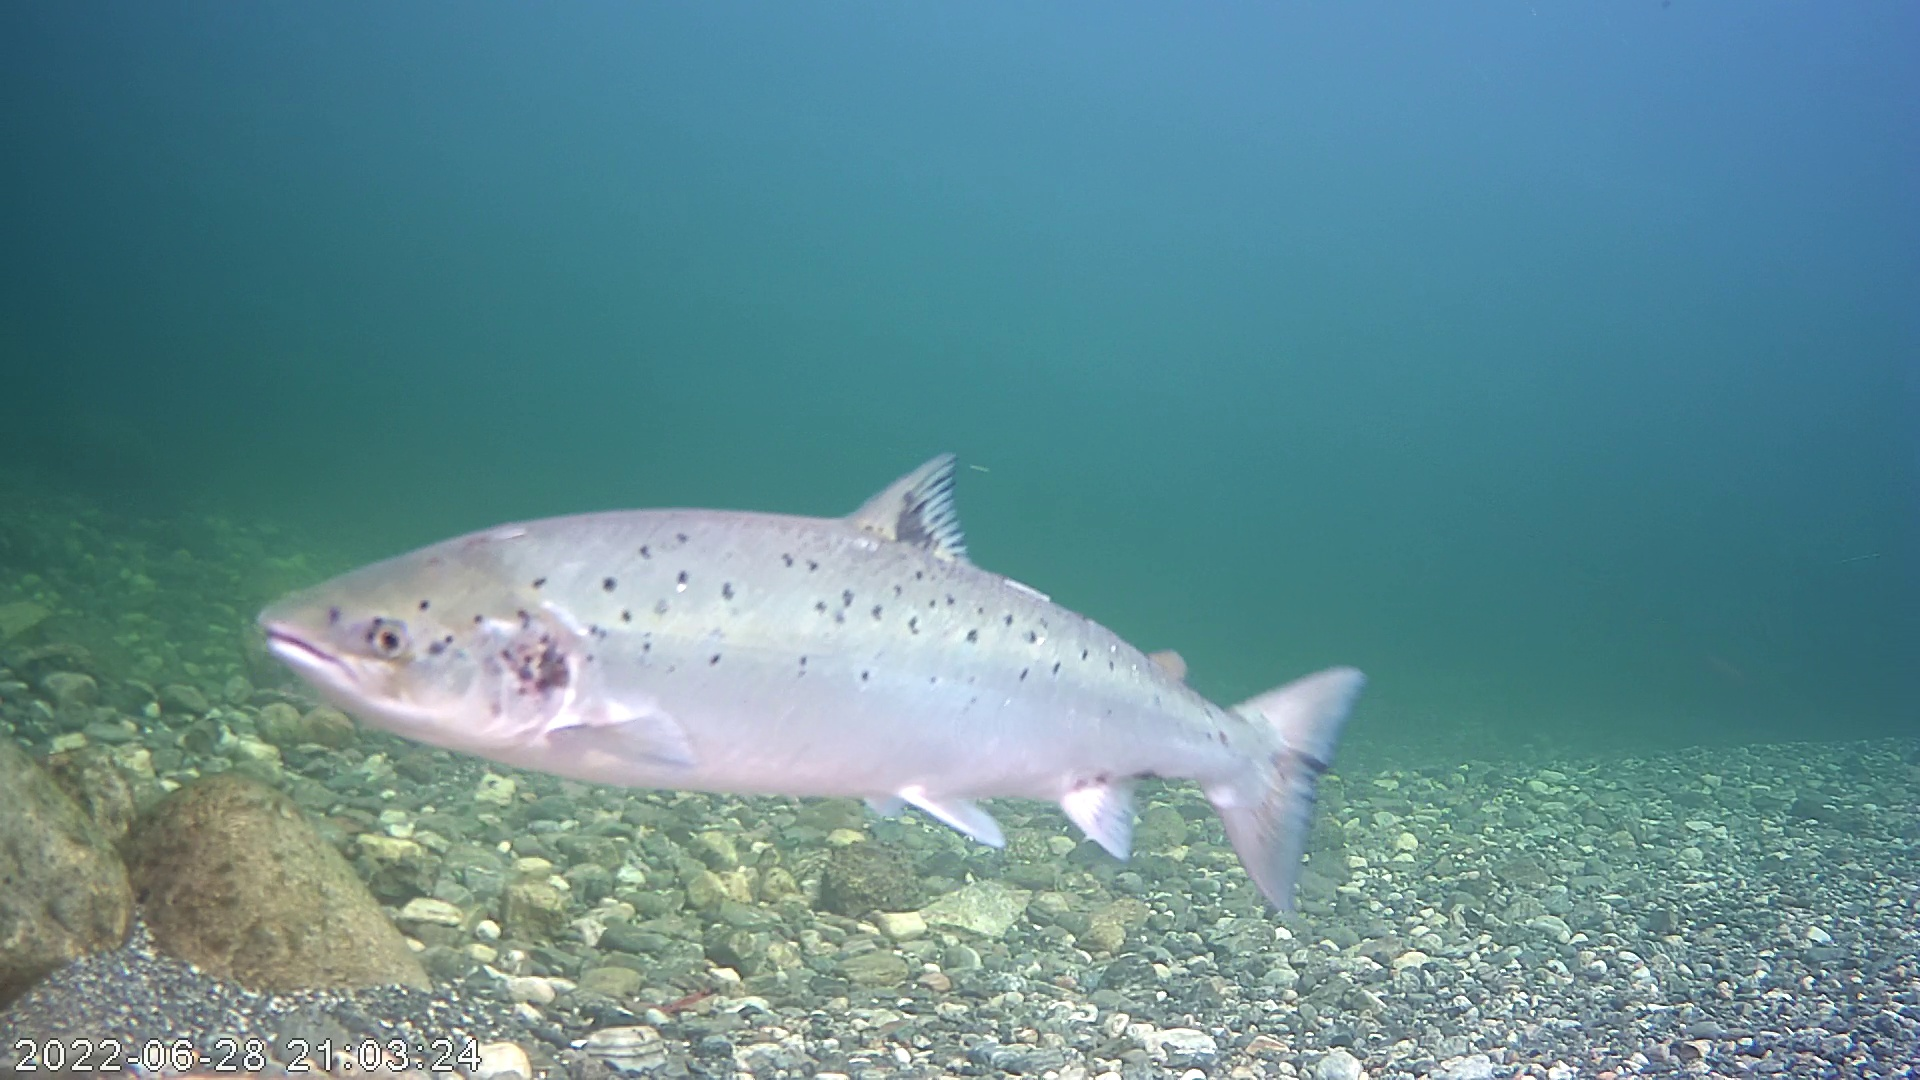salmon: (243, 371, 1367, 923)
